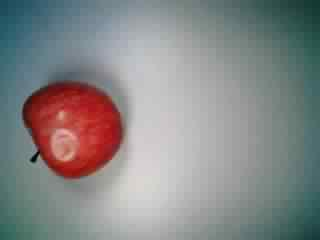apple: (20, 78, 123, 182)
